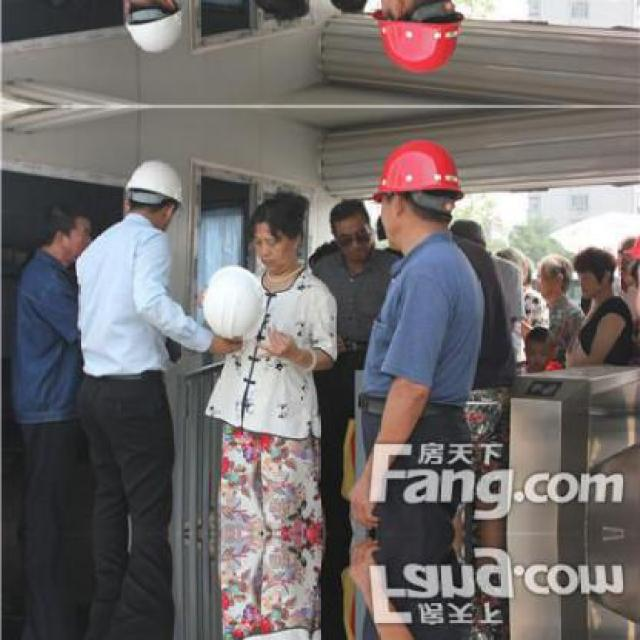helmet: (368, 137, 462, 250), (368, 0, 463, 77), (123, 155, 182, 229), (123, 0, 183, 59)
